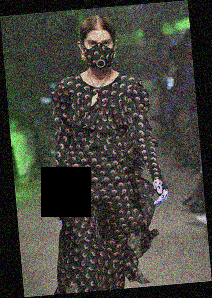with_mask: (82, 36, 115, 70)
